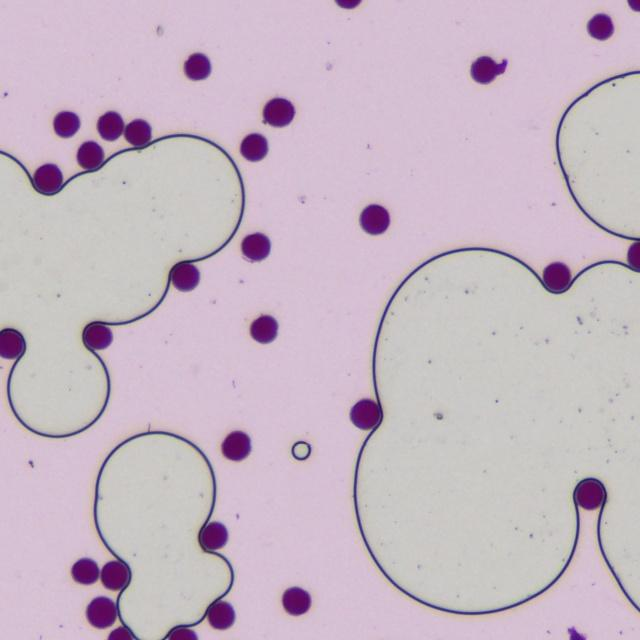viable: (87, 597, 116, 627), (360, 204, 389, 234), (350, 399, 379, 428), (264, 98, 294, 126), (34, 164, 62, 193), (101, 560, 129, 589), (222, 431, 250, 459), (543, 262, 570, 291), (576, 480, 603, 509), (171, 264, 199, 291), (241, 233, 269, 260), (250, 315, 277, 343), (282, 587, 310, 614), (97, 111, 123, 140), (77, 141, 103, 169), (471, 56, 497, 83), (84, 323, 111, 349), (201, 522, 227, 549), (125, 119, 151, 146), (241, 133, 267, 160), (184, 53, 210, 79), (208, 602, 234, 628), (587, 14, 613, 39), (53, 111, 79, 136), (72, 559, 99, 583), (0, 329, 23, 357), (169, 627, 197, 639), (628, 242, 639, 269), (108, 627, 132, 639), (335, 0, 360, 8), (628, 0, 639, 10)
